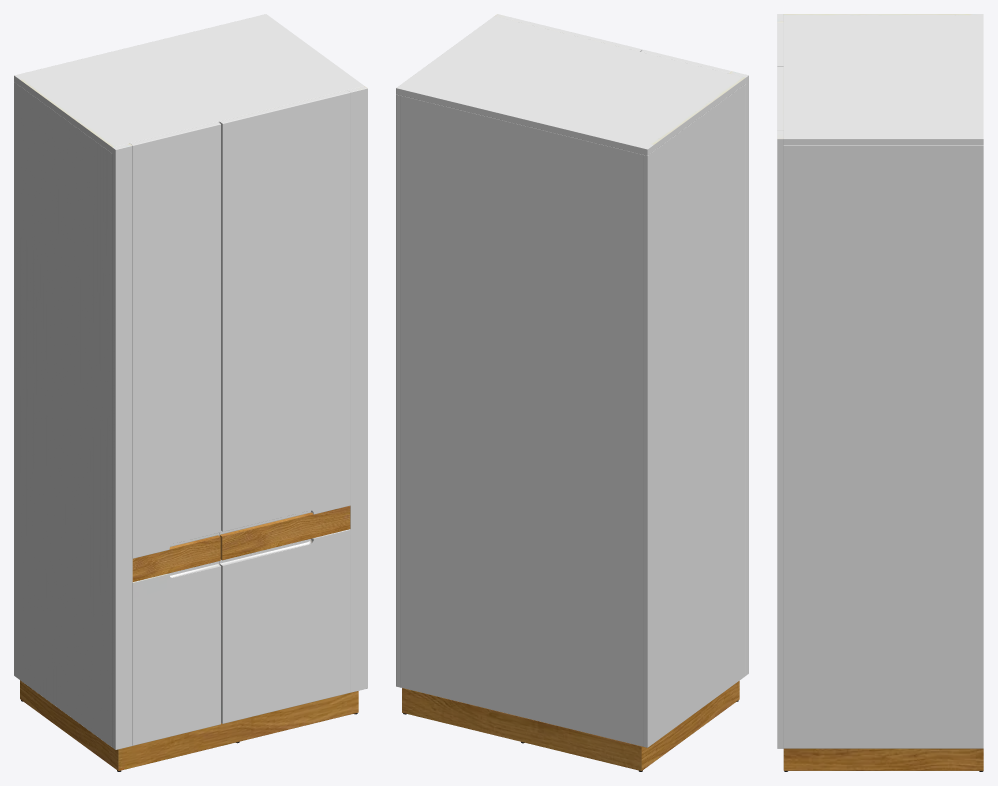
The model's file is abo-B07JGMW8DG.glb.
3 views of the same model, side by side, from view 1: azimuth 30°, elevation 25°; view 2: azimuth 150°, elevation 25°; view 3: azimuth 270°, elevation 25° (orthographic).
Bounding box in the file's own units: 0.8601 × 2.04 × 0.6001.
Materials: 1 (1 with a texture image).
